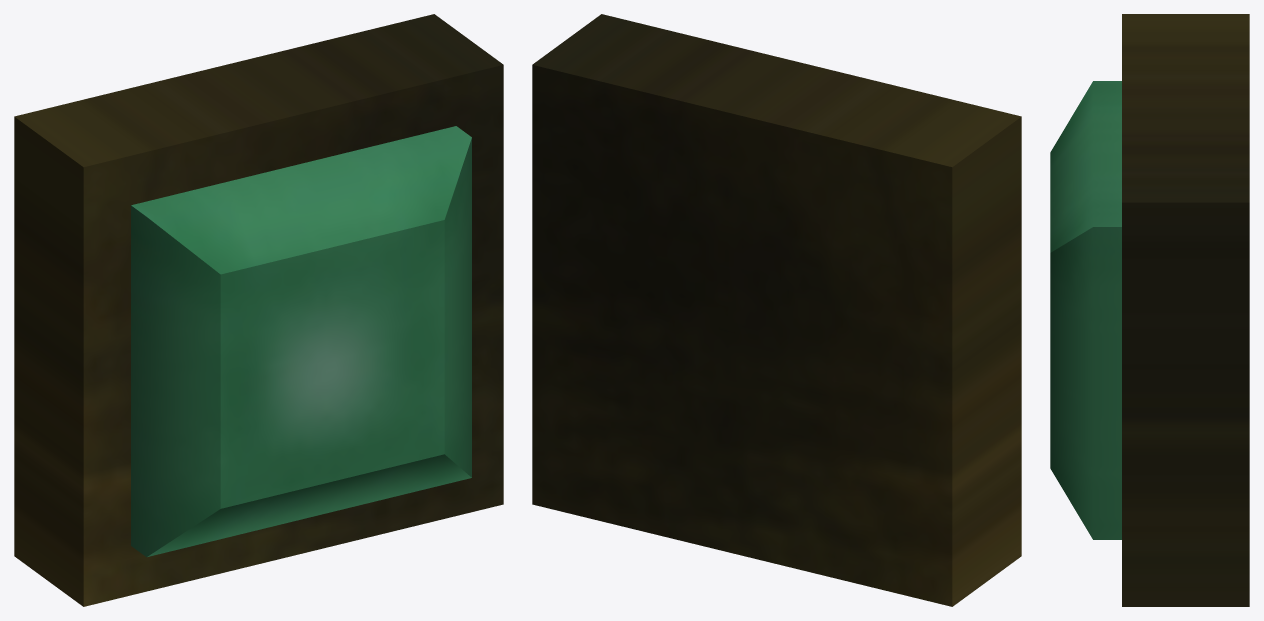
File: GreenButton.fbx
The picture shows the model from 3 angles, left to right: view 1: azimuth 30°, elevation 25°; view 2: azimuth 150°, elevation 25°; view 3: azimuth 270°, elevation 25°; orthographic projection. The views are drawn at different scales.
Parts seen in each view (by area): view 1: base, unlit; view 2: base; view 3: base, unlit.
Part boxes in pixels (x1=…): base: x1=14, y1=14, x2=503, y2=606; unlit: x1=131, y1=126, x2=471, y2=557; base: x1=532, y1=14, x2=1021, y2=606; base: x1=1122, y1=14, x2=1249, y2=606; unlit: x1=1050, y1=81, x2=1121, y2=539.
Bounding box in the file's own units: 0.4559 × 0.4559 × 0.2036.
Materials: 1 (1 with a texture image).
